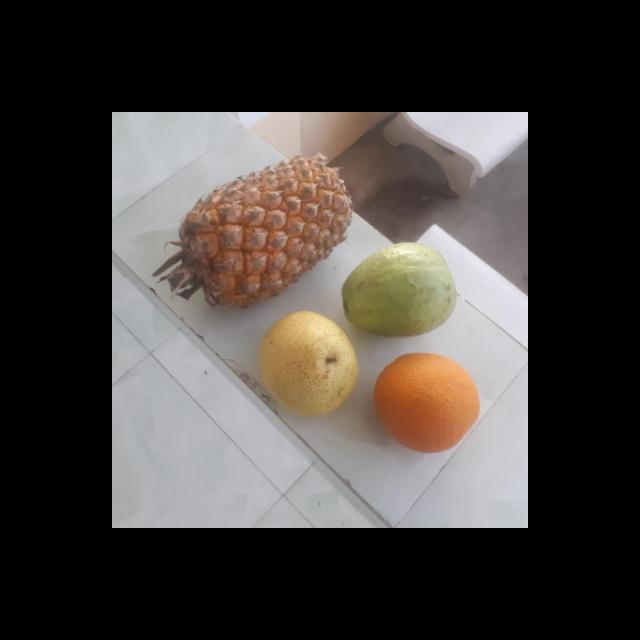guava: (340, 246, 454, 334)
orange: (368, 351, 480, 452)
pear: (254, 312, 360, 416)
pineapple: (173, 157, 344, 310)
